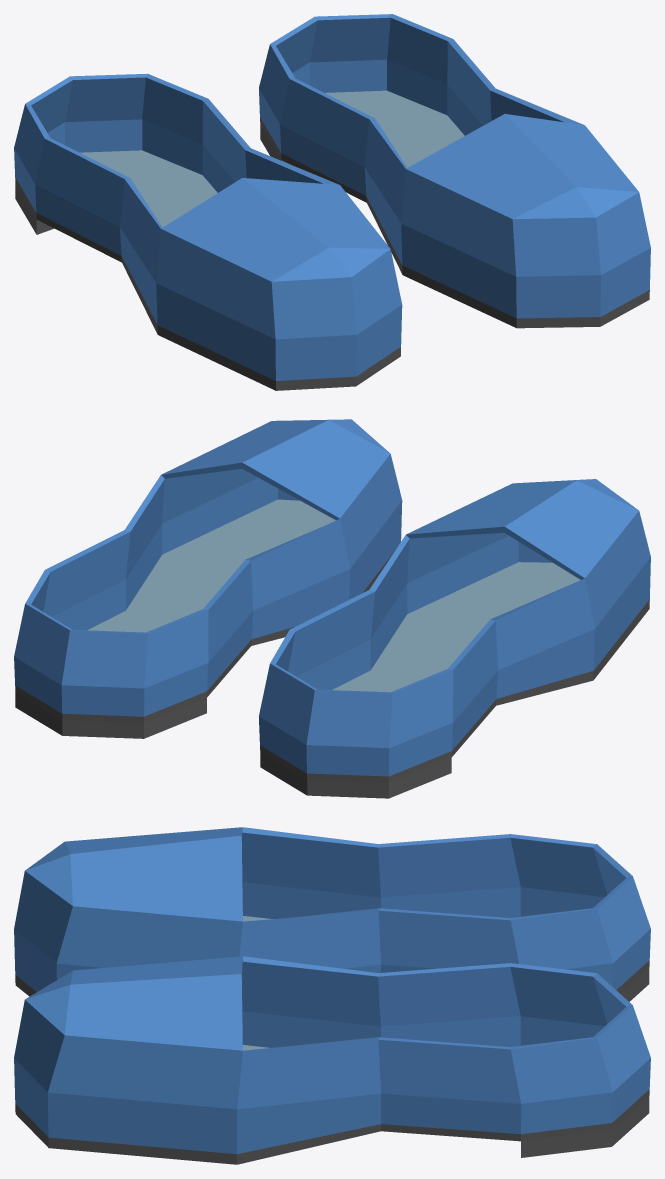
File: Loafers_4.fbx
The picture shows the model from 3 angles, top to bottom: view 1: azimuth 30°, elevation 25°; view 2: azimuth 150°, elevation 25°; view 3: azimuth 270°, elevation 25°; orthographic projection. The views are drawn at different scales.
Visible parts, largest first — view 1: Loafers_4; view 2: Loafers_4; view 3: Loafers_4.
Part boxes in pixels (x1,y1,x2,y2): Loafers_4: (14,14,650,390); Loafers_4: (14,419,650,798); Loafers_4: (14,827,650,1164).
Bounding box in the file's own units: 31.94 × 37.2 × 9.5.
